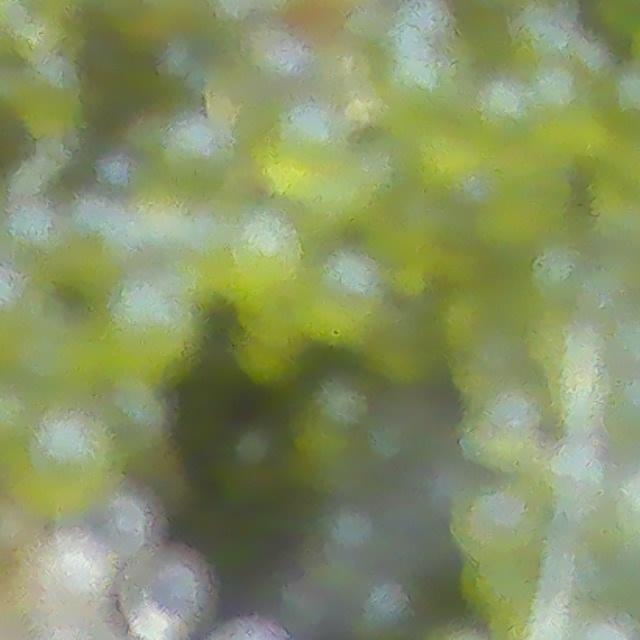SeaGrape: (457, 366, 560, 479), (252, 108, 353, 208), (101, 266, 193, 369), (22, 529, 115, 620), (453, 475, 547, 564), (121, 548, 206, 640), (522, 70, 613, 155), (24, 402, 102, 497), (303, 252, 385, 338), (463, 80, 540, 170), (233, 214, 312, 278), (81, 491, 147, 556)
